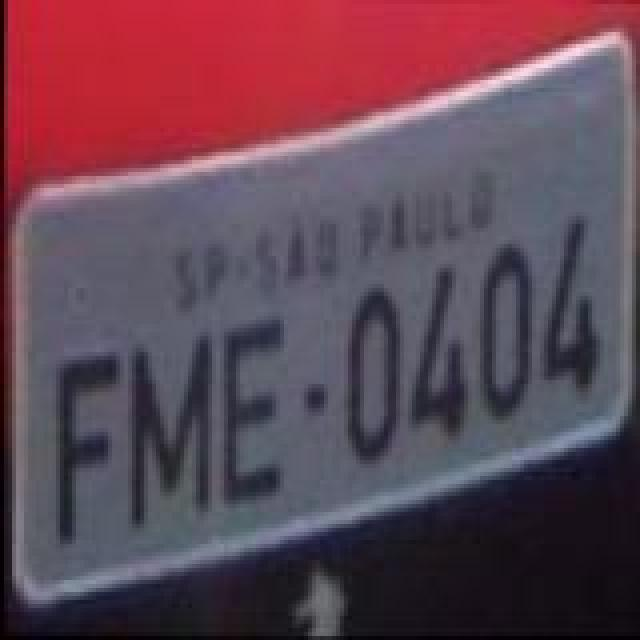4: (404, 264, 472, 448), (540, 214, 600, 394)
F: (52, 350, 124, 546)
M: (122, 330, 214, 530)
O: (216, 316, 288, 508), (338, 282, 402, 466), (476, 242, 536, 426)
